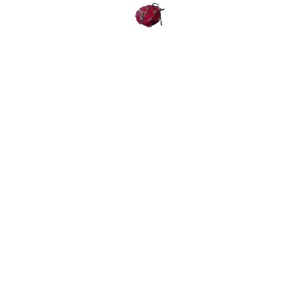pitaia: (135, 3, 164, 28)
